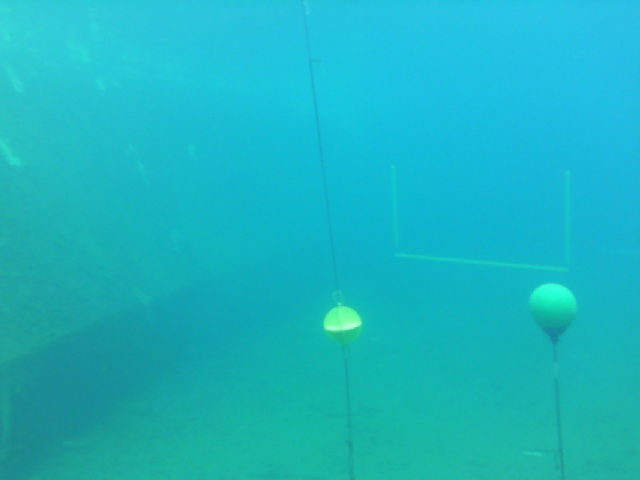buoy_green: (529, 281, 577, 347)
buoy_yellow: (322, 304, 363, 346)
channel: (387, 167, 573, 271)
